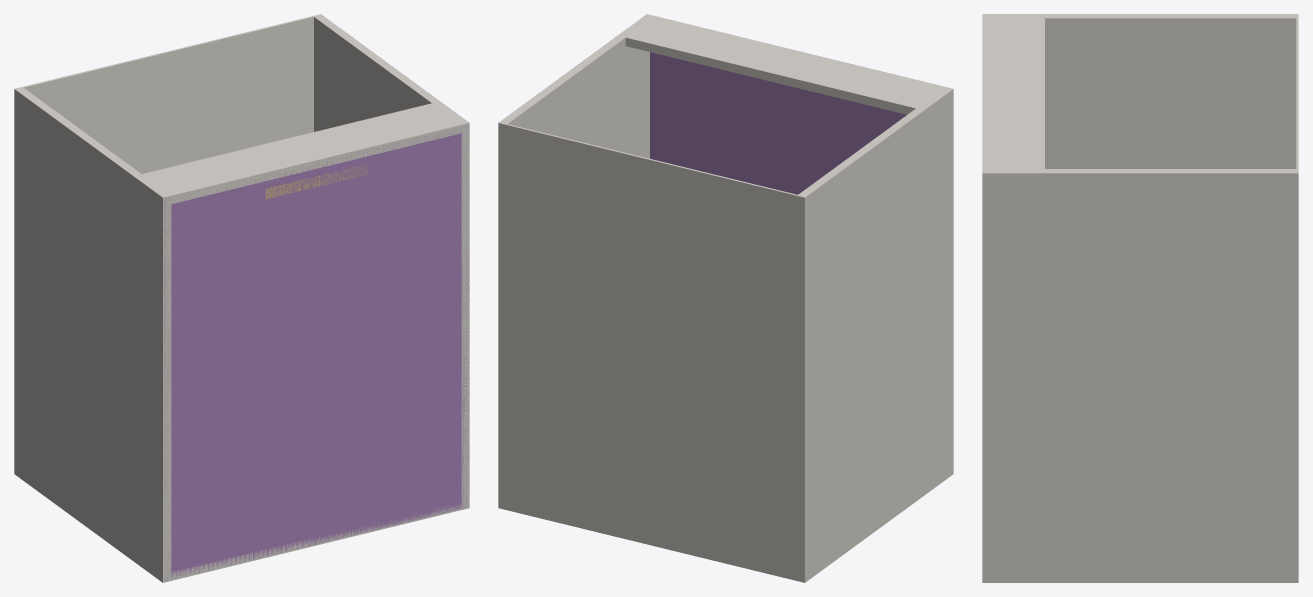
The model's file is mf-base-cabinet-600.glb.
3 views of the same model, side by side, from view 1: azimuth 30°, elevation 25°; view 2: azimuth 150°, elevation 25°; view 3: azimuth 270°, elevation 25° (orthographic). The views are drawn at different scales.
Visible parts, largest first — view 1: Geom3D_FACADE, Geom3D_LEFT_SIDE, Geom3D_BACK_OVERLAY, Geom3D_RIGHT_SIDE, Geom3D_TOP_RAIL, Geom3D_BOTTOM, Geom3D_HANDLE; view 2: Geom3D_BACK_OVERLAY, Geom3D_LEFT_SIDE, Geom3D_FACADE, Geom3D_TOP_RAIL, Geom3D_RIGHT_SIDE; view 3: Geom3D_RIGHT_SIDE, Geom3D_LEFT_SIDE, Geom3D_TOP_RAIL, Geom3D_BACK_OVERLAY.
Boxes of the visible parts, x1,y1,x2,y2 form: Geom3D_FACADE: (164,125,468,580); Geom3D_LEFT_SIDE: (15,87,171,582); Geom3D_BACK_OVERLAY: (14,14,321,474); Geom3D_RIGHT_SIDE: (314,15,469,509); Geom3D_TOP_RAIL: (142,103,461,203); Geom3D_BOTTOM: (171,503,461,580); Geom3D_HANDLE: (265,164,367,199); Geom3D_BACK_OVERLAY: (498,122,806,582); Geom3D_LEFT_SIDE: (798,87,953,581); Geom3D_FACADE: (650,52,906,194); Geom3D_TOP_RAIL: (625,16,945,114); Geom3D_RIGHT_SIDE: (500,14,654,158); Geom3D_RIGHT_SIDE: (982,169,1296,582); Geom3D_LEFT_SIDE: (982,14,1296,168); Geom3D_TOP_RAIL: (982,18,1044,168); Geom3D_BACK_OVERLAY: (1296,14,1298,582).
Size of the model in its own units: 0.6 by 0.72 by 0.504.
